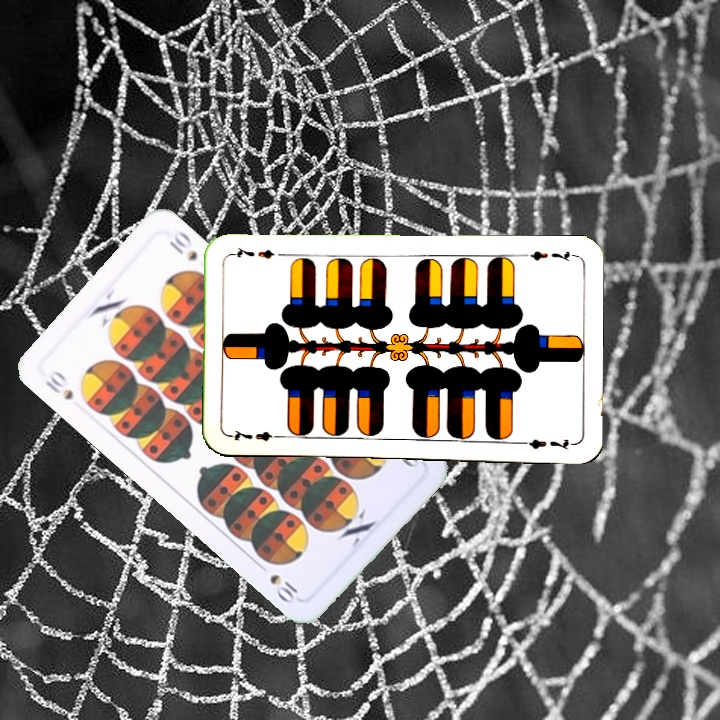E7: (518, 245, 577, 264), (227, 427, 286, 444)
S10: (40, 366, 76, 403)
